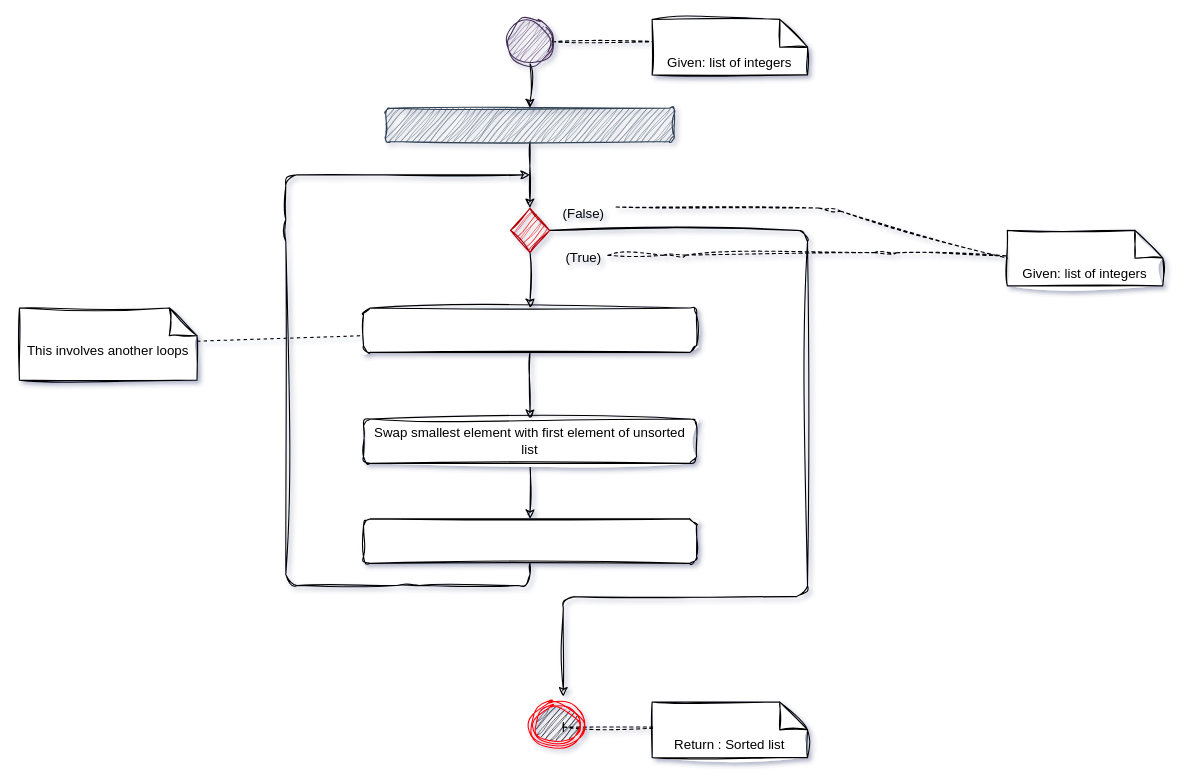
The diagram is 1189 pixels wide and 784 high, and some of its shapes have lost their labels. The shapes that lost their labels are listed below. From the top down, each one's box as (x1, y1, x2, y2) in pixels, then its label:
(385, 107, 674, 142): Place the wall at the leftmost of the list
(362, 307, 697, 352): Find the smallest in the unsorted list
(362, 518, 697, 563): Move the wall one element to the left
